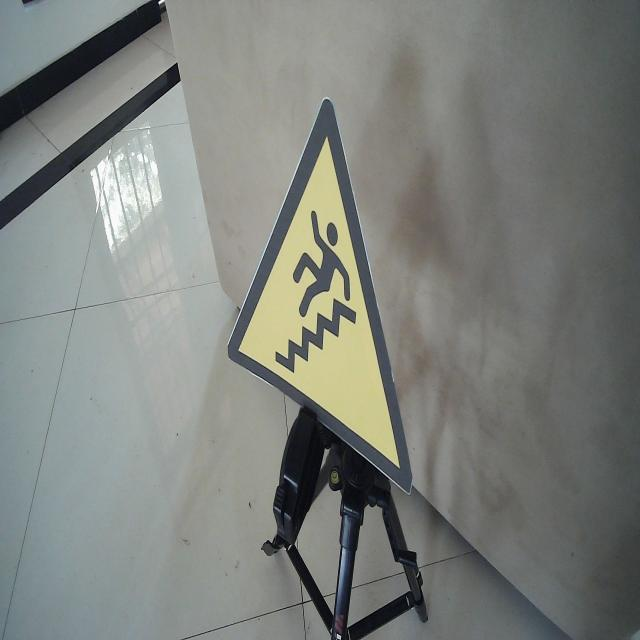stairs: (225, 95, 416, 498)
